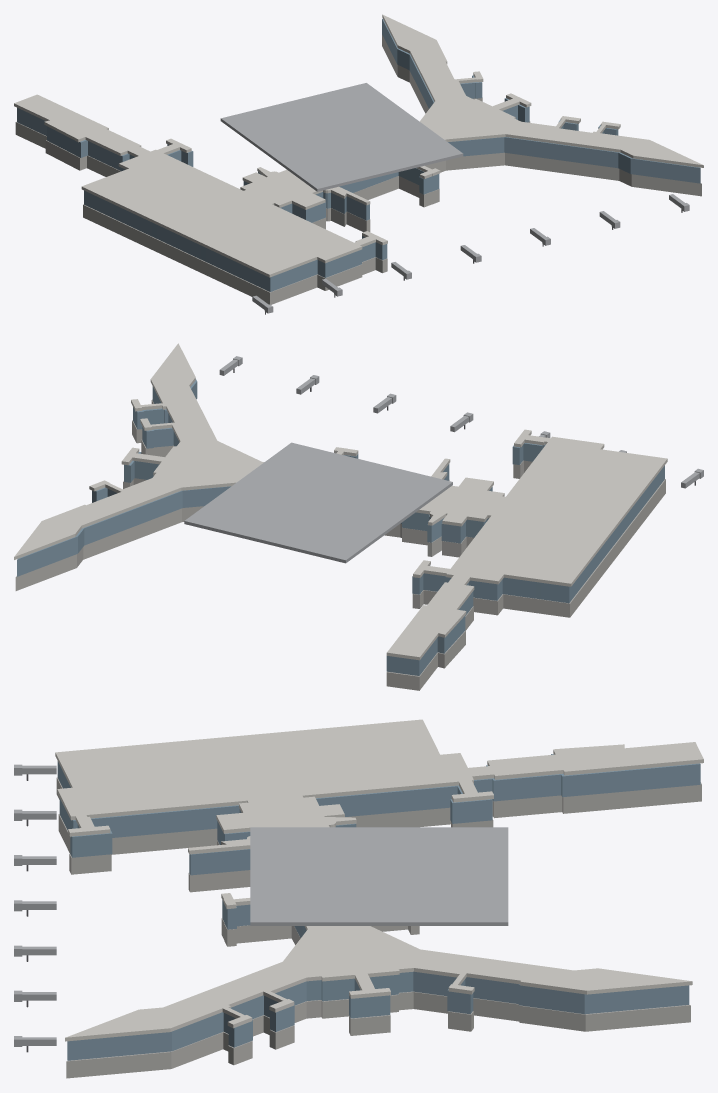
File: landmark-euroairport-terminal.3bfe4ac464.glb
3 views of the same model, one above another, from view 1: azimuth 30°, elevation 25°; view 2: azimuth 150°, elevation 25°; view 3: azimuth 270°, elevation 25° (orthographic). The views are drawn at different scales.
Parts seen in each view (by area): view 1: building; view 2: building; view 3: building.
Part boxes in pixels (x1,y1,x2,y2): building: (14,14,703,314); building: (14,343,703,690); building: (14,719,703,1078).
Size of the model in its own units: 361 by 24 by 330.
